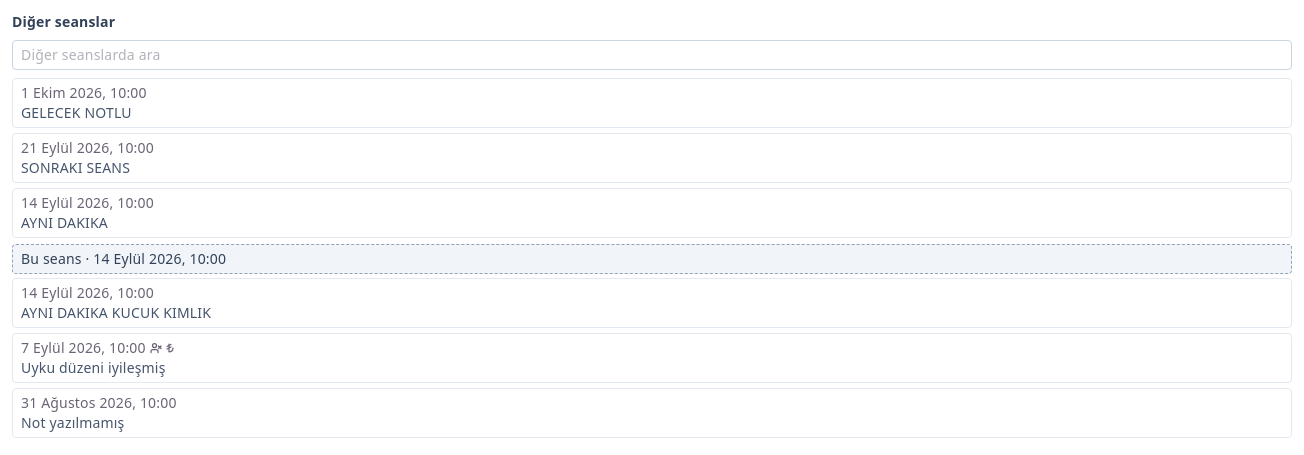
Test: DigerSeanslar (tasarım N5-N9, 2026-09-27 değişikliği) › açılan not okunamazsa hata gösterilir; "not yazılmamış" DENMEZ
The width and height of the screenshot is (1304, 455).
Click the button "7 Eylül 2026, 10:00 Uyku düzeni iyileşmiş": click(83, 347) [12,333,1292,383]
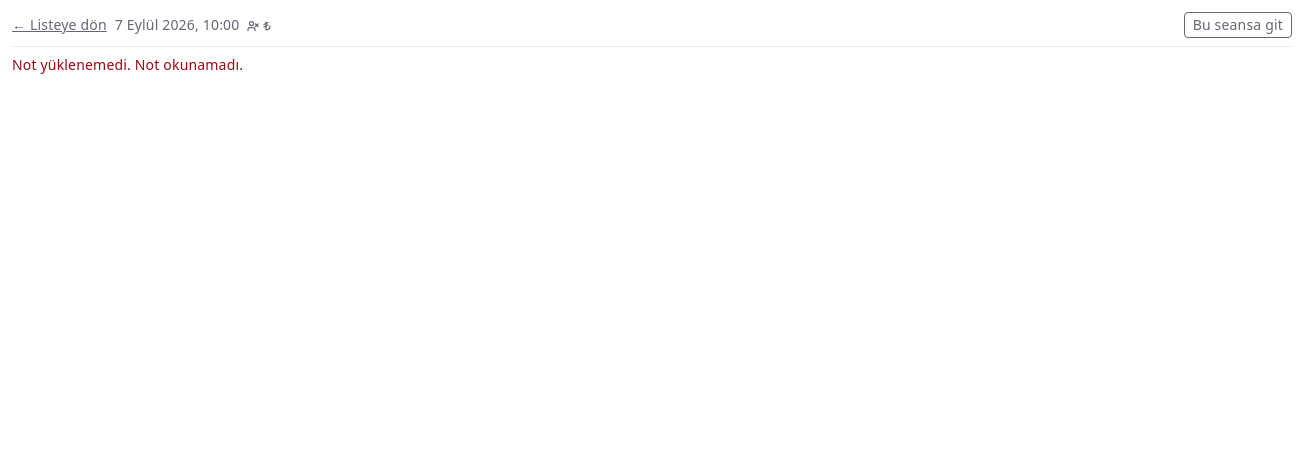
Expected: the message shows "Not okunamadı.", [135,55,243,74]
